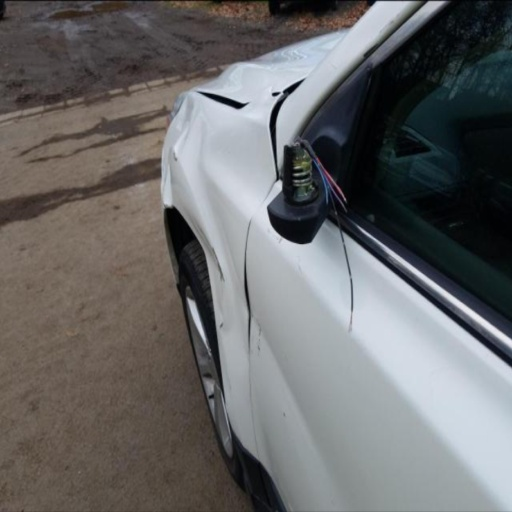dent: (161, 93, 315, 442), (195, 64, 308, 103)
scratch: (192, 220, 226, 283), (251, 308, 263, 353), (294, 259, 306, 282), (295, 254, 301, 272), (173, 150, 177, 162), (277, 236, 283, 244), (220, 320, 224, 329), (267, 225, 272, 232), (282, 410, 287, 417), (275, 234, 279, 240)
